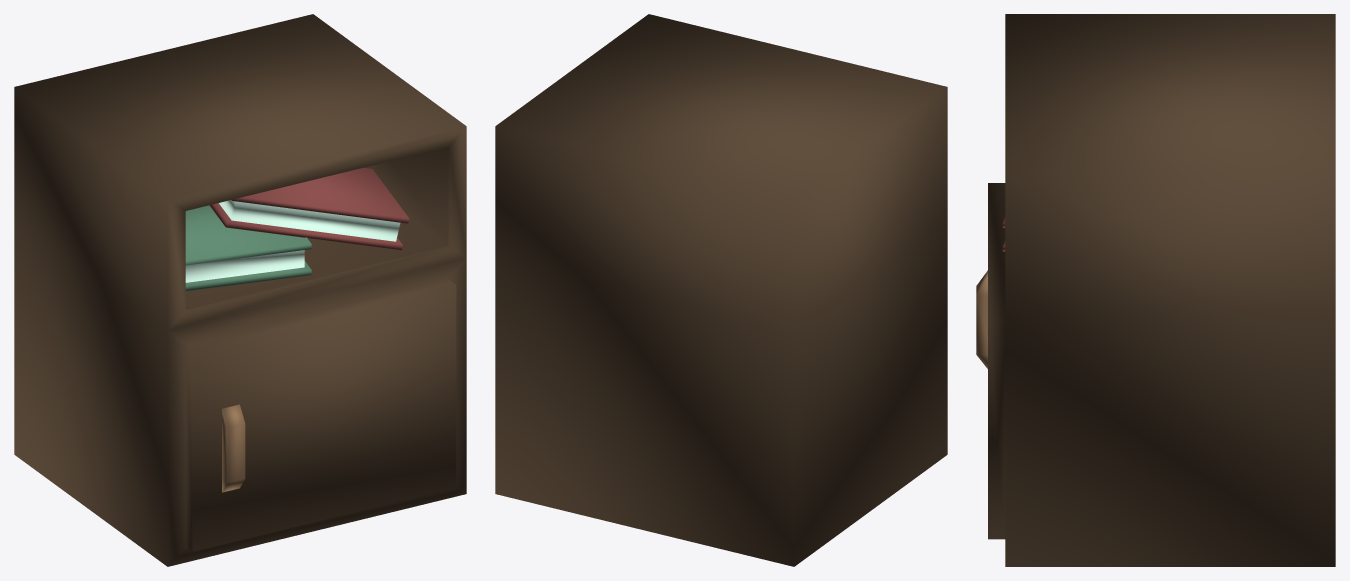
File: Nightstand_Bedroom_V1.fbx
The picture shows the model from 3 angles, left to right: view 1: azimuth 30°, elevation 25°; view 2: azimuth 150°, elevation 25°; view 3: azimuth 270°, elevation 25°; orthographic projection. The views are drawn at different scales.
Parts seen in each view (by area): view 1: Cube.005, Cube.008, Cube.009, Cube.006; view 2: Cube.005; view 3: Cube.005, Cube.006.
Part boxes in pixels (x1,y1,x2,y2): Cube.005: (14,14,466,566); Cube.008: (209,167,409,250); Cube.009: (185,205,311,291); Cube.006: (222,404,245,492); Cube.005: (495,14,947,566); Cube.005: (988,14,1335,566); Cube.006: (976,270,987,368).
Bounding box in the file's own units: 78.12 × 91.81 × 75.54.
